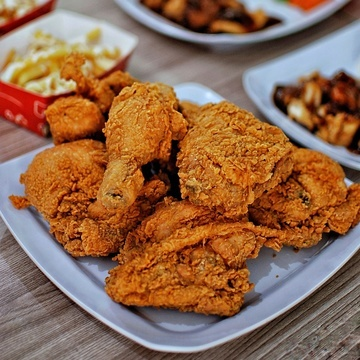ayam_goreng: (96, 76, 176, 212)
